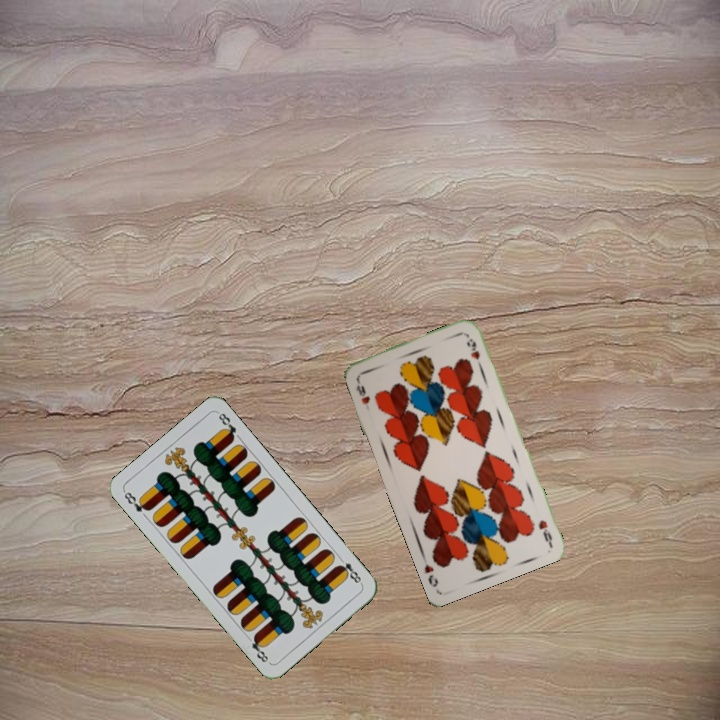E8: (334, 553, 365, 587), (120, 488, 153, 515)
H9: (351, 375, 373, 412), (534, 516, 555, 547)
